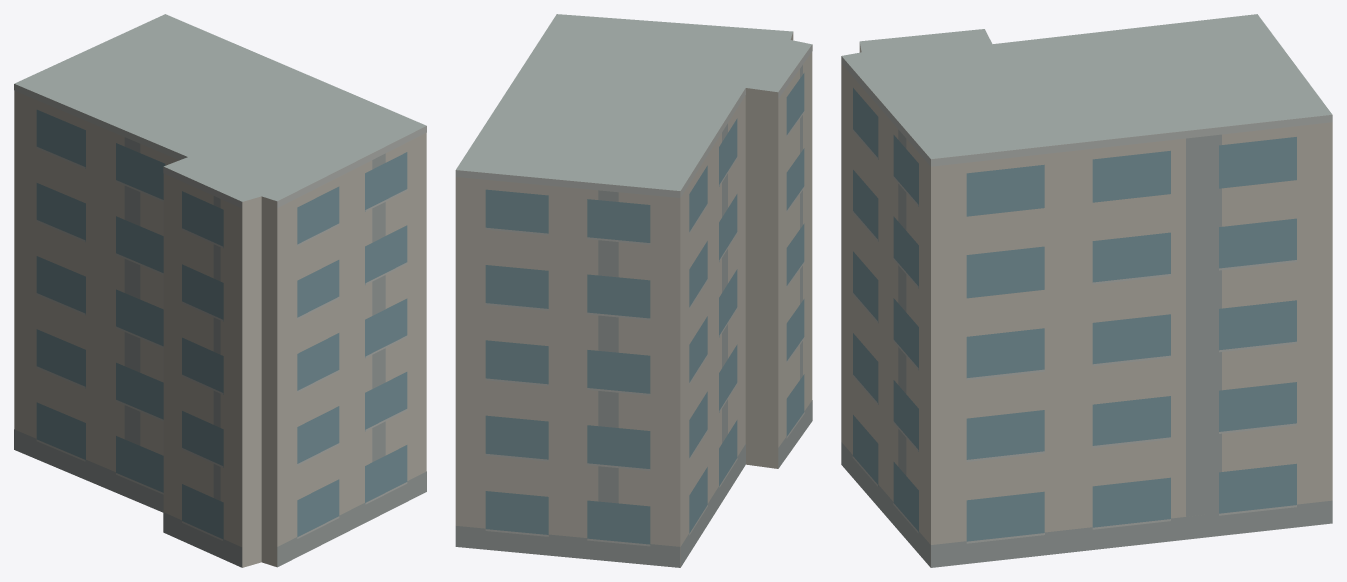
Rendered from survey-upis-32884977.glb.
The picture shows the model from 3 angles, left to right: view 1: azimuth 30°, elevation 25°; view 2: azimuth 150°, elevation 25°; view 3: azimuth 270°, elevation 25°; orthographic projection. The views are drawn at different scales.
Visible parts, largest first — view 1: survey-upis-32884977.tmp; view 2: survey-upis-32884977.tmp; view 3: survey-upis-32884977.tmp.
Part boxes in pixels (x1=…): survey-upis-32884977.tmp: x1=14, y1=14, x2=426, y2=567; survey-upis-32884977.tmp: x1=455, y1=14, x2=812, y2=567; survey-upis-32884977.tmp: x1=841, y1=14, x2=1332, y2=567.
Size of the model in its own units: 10.07 by 13.2 by 14.39.
